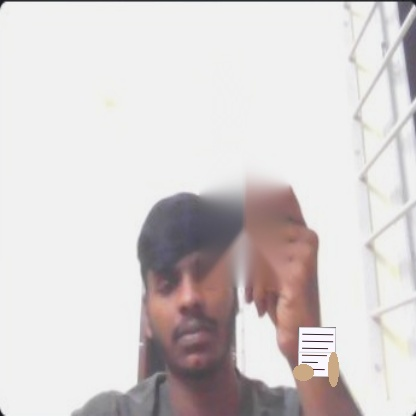cheat_chit: (298, 327, 336, 377)
